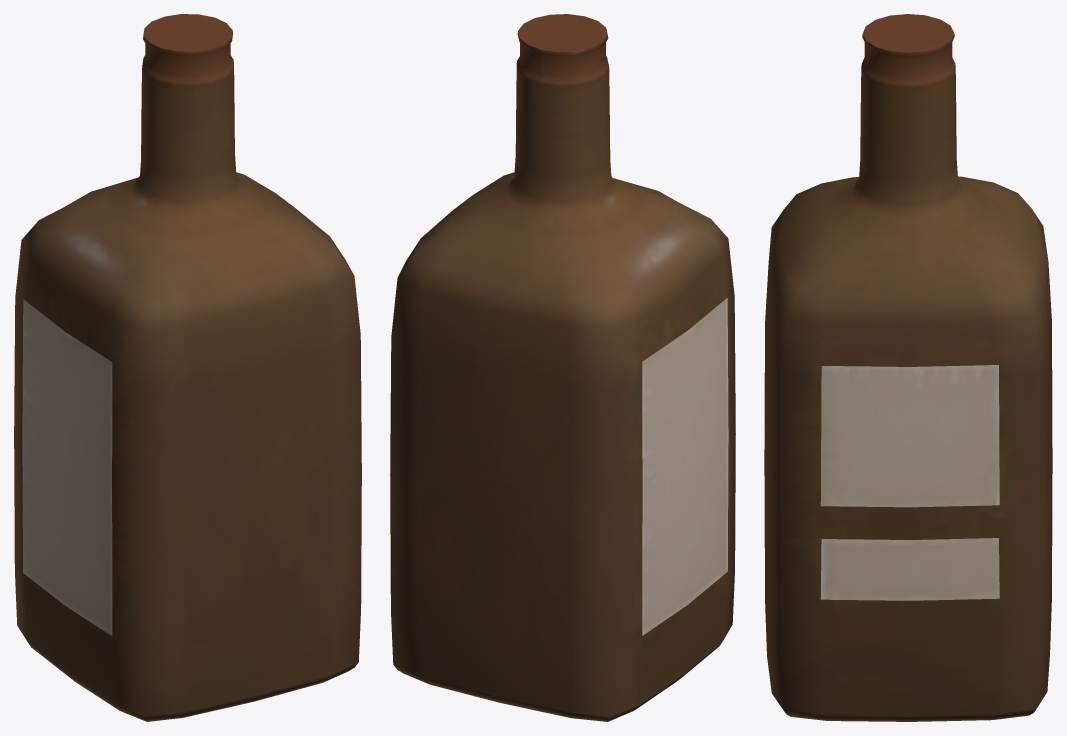
File: SM_Bottles_04.fbx
The picture shows the model from 3 angles, left to right: view 1: azimuth 30°, elevation 25°; view 2: azimuth 150°, elevation 25°; view 3: azimuth 270°, elevation 25°; orthographic projection.
Visible parts, largest first — view 1: SM_Bottles_04_LOD0; view 2: SM_Bottles_04_LOD0; view 3: SM_Bottles_04_LOD0.
Part boxes in pixels (x1,y1,x2,y2): SM_Bottles_04_LOD0: (14,14,361,721); SM_Bottles_04_LOD0: (390,14,735,721); SM_Bottles_04_LOD0: (764,14,1052,721).
Size of the model in its own units: 8.98 by 8.85 by 21.45.
2 materials, 2 textured.
